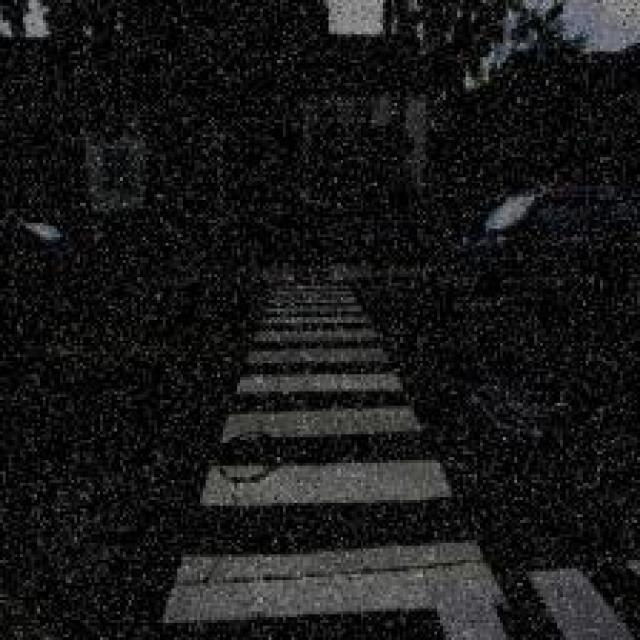crosswalk: (163, 279, 498, 625)
